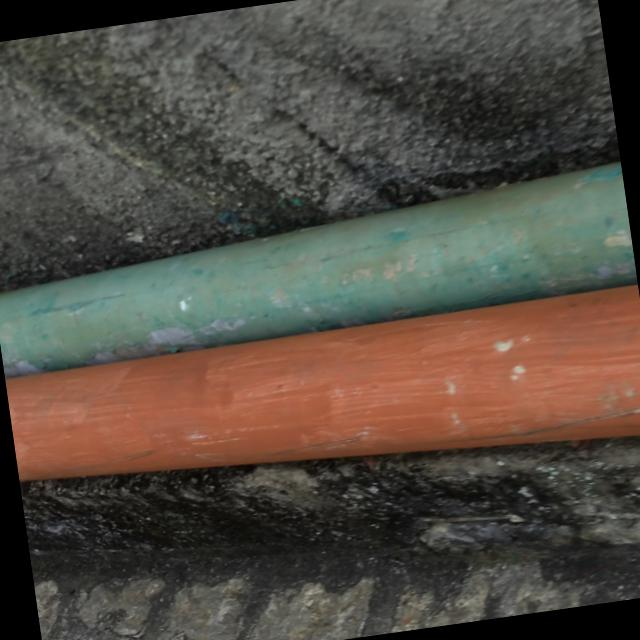gas: (4, 286, 640, 524), (0, 162, 639, 378)
